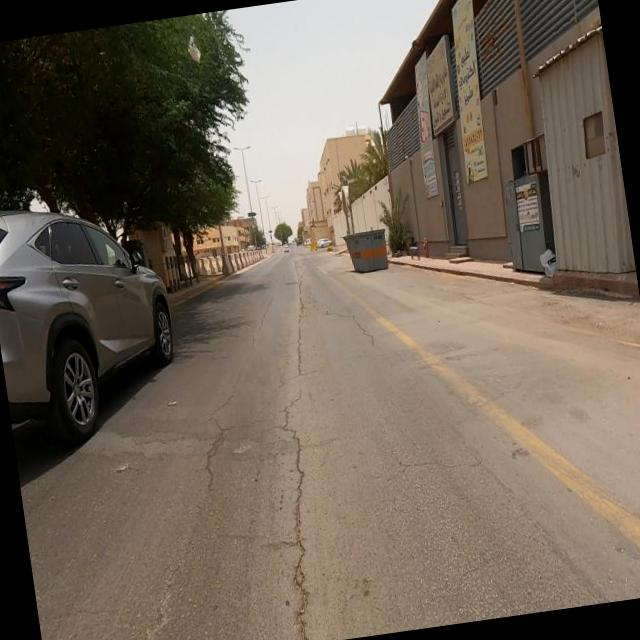debris: (506, 212, 578, 314)
